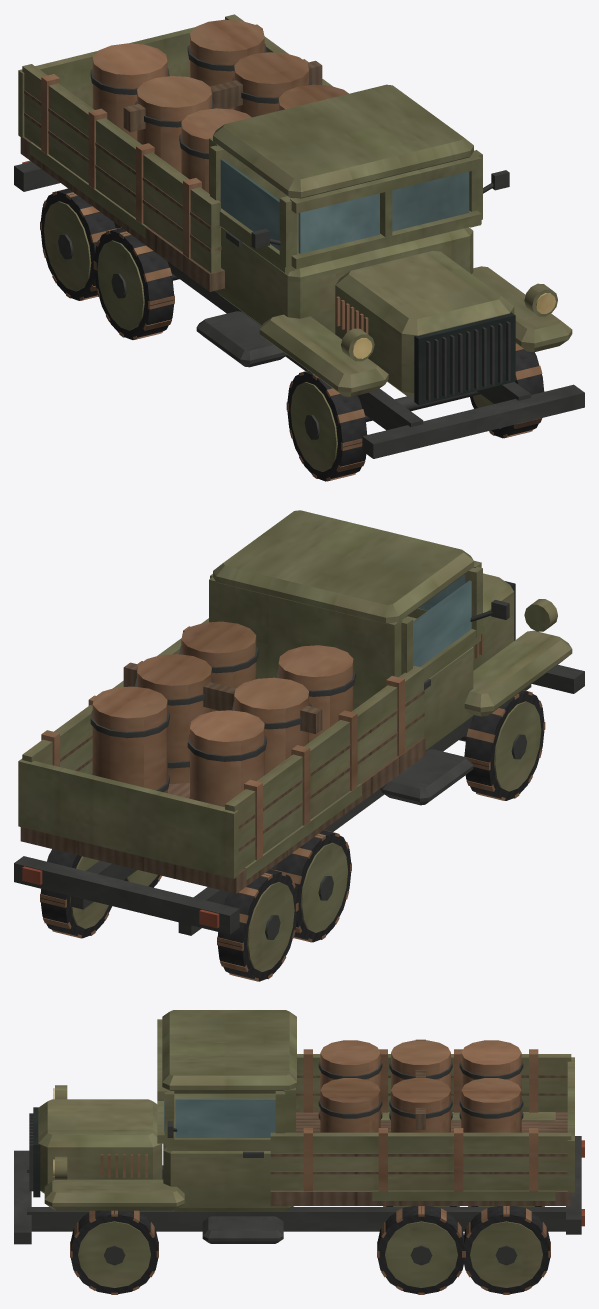
The model's file is isuzu-type94-fuel.glb.
3 views of the same model, one above another, from view 1: azimuth 30°, elevation 25°; view 2: azimuth 150°, elevation 25°; view 3: azimuth 270°, elevation 25° (orthographic). The views are drawn at different scales.
Parts seen in each view (by area): view 1: Isuzu Type 94 | Fasswagen; view 2: Isuzu Type 94 | Fasswagen; view 3: Isuzu Type 94 | Fasswagen.
Part boxes in pixels (<box>): Isuzu Type 94 | Fasswagen: <box>14,14,584,481</box>; Isuzu Type 94 | Fasswagen: <box>14,510,584,981</box>; Isuzu Type 94 | Fasswagen: <box>14,1010,584,1294</box>.
Size of the model in its own units: 2.25 by 2.27 by 5.51.
Materials: 1 (1 with a texture image).
